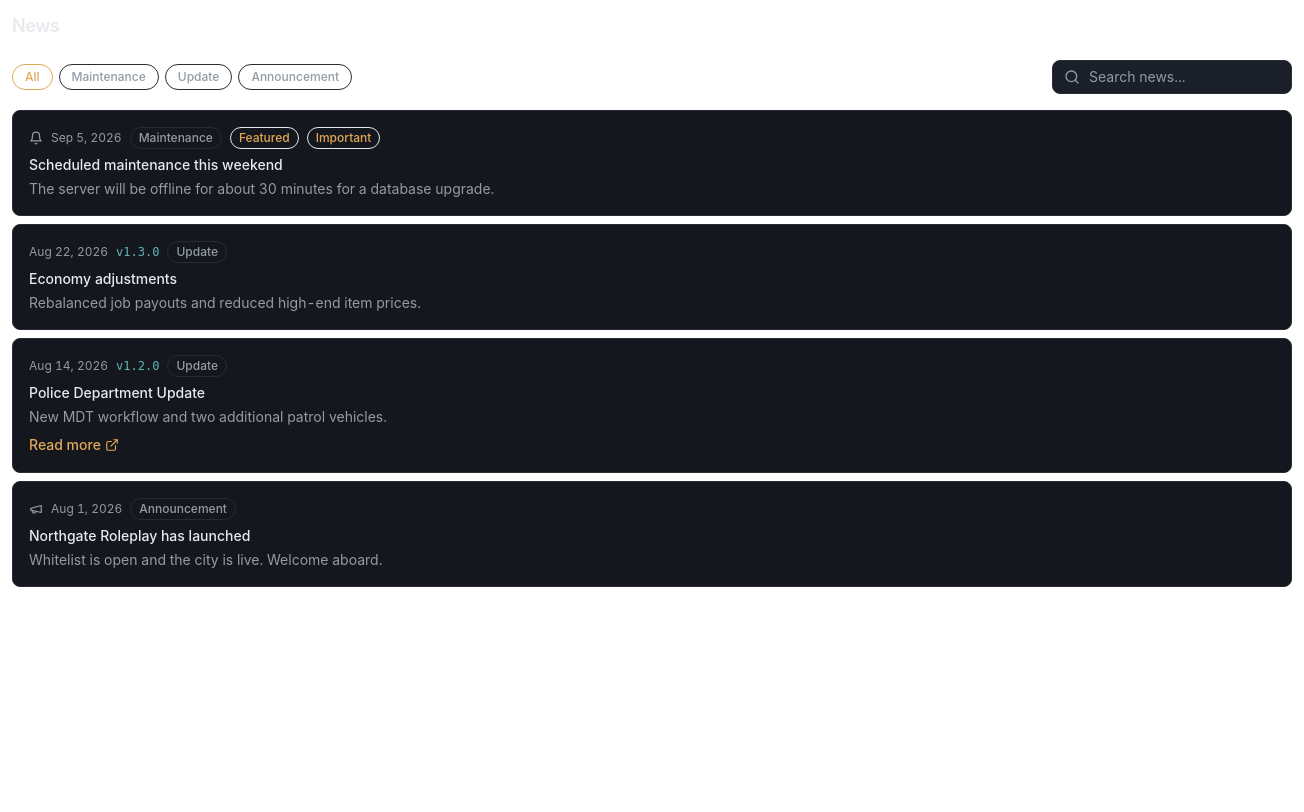
it: NewsPage › filters by category
Click the button "Maintenance": (109, 77) 59,64 -> 159,90
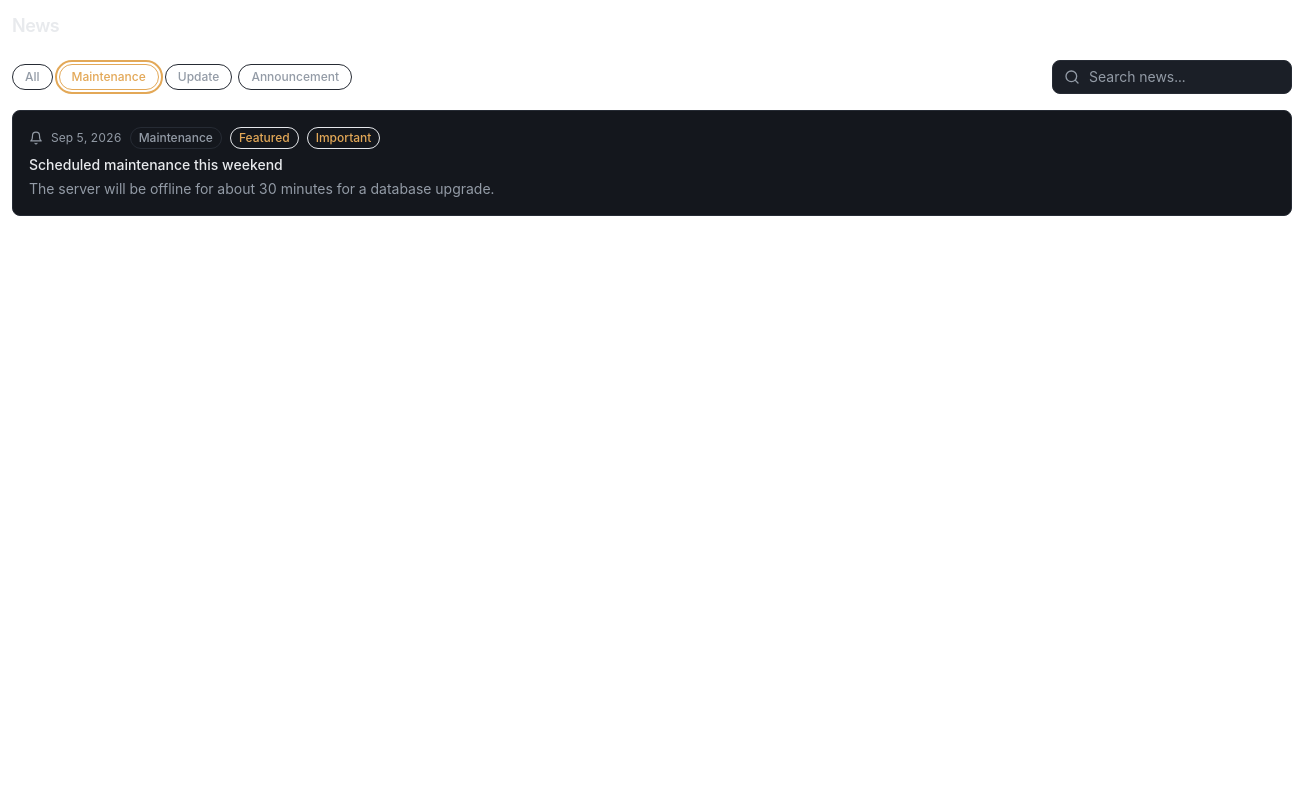
Check: the heading "Scheduled maintenance this weekend" is shown, box 29,156 -> 283,173
Check: the heading "Economy adjustments" is gone
